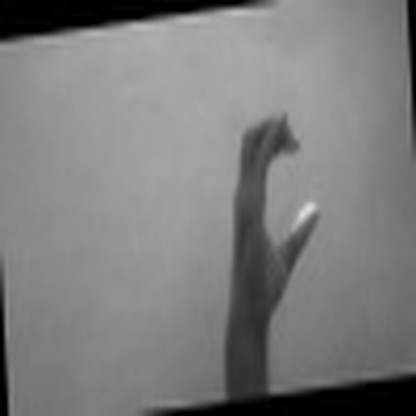c: (223, 107, 325, 305)
